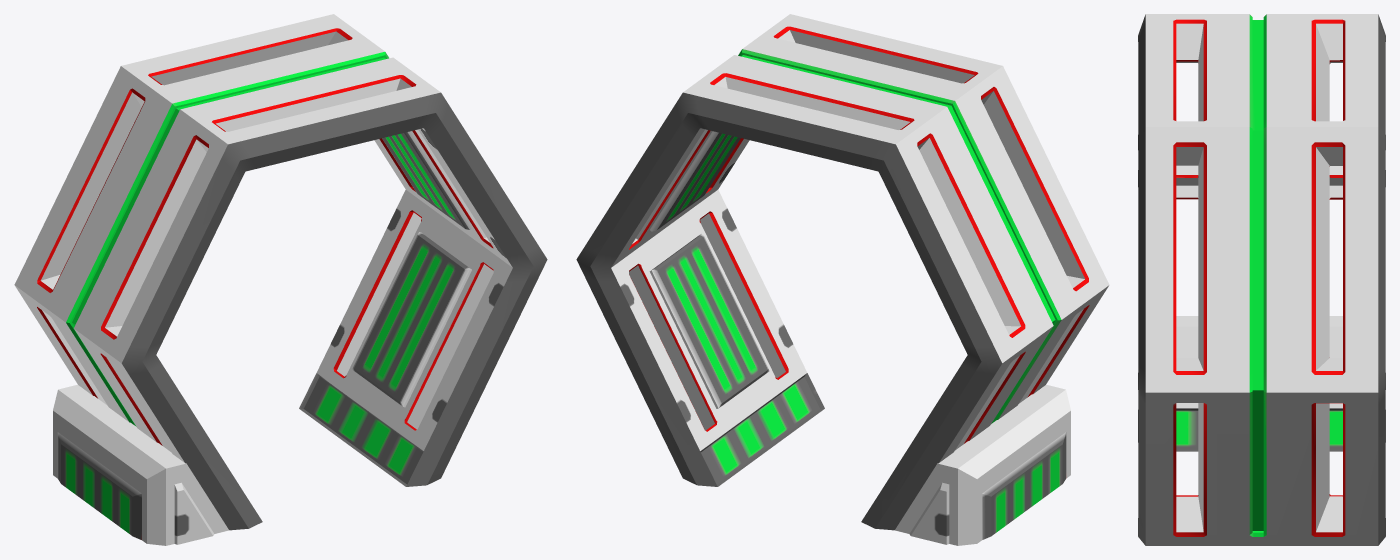
The model's file is chargingstation.fbx.
3 renders of one model, left to right at view 1: azimuth 30°, elevation 25°; view 2: azimuth 150°, elevation 25°; view 3: azimuth 270°, elevation 25°, orthographic. The views are drawn at different scales.
Visible parts, largest first — view 1: chargingstation_HP, charingstation_sides; view 2: chargingstation_HP, charingstation_sides; view 3: chargingstation_HP, charingstation_sides.
Boxes of the visible parts, x1,y1,x2,y2 form: chargingstation_HP: (14,14,547,530); charingstation_sides: (53,384,228,545); chargingstation_HP: (576,14,1109,530); charingstation_sides: (895,384,1070,545); chargingstation_HP: (1138,14,1385,545); charingstation_sides: (1176,316,1342,357).
Size of the model in its own units: 163 by 141 by 75.83.
